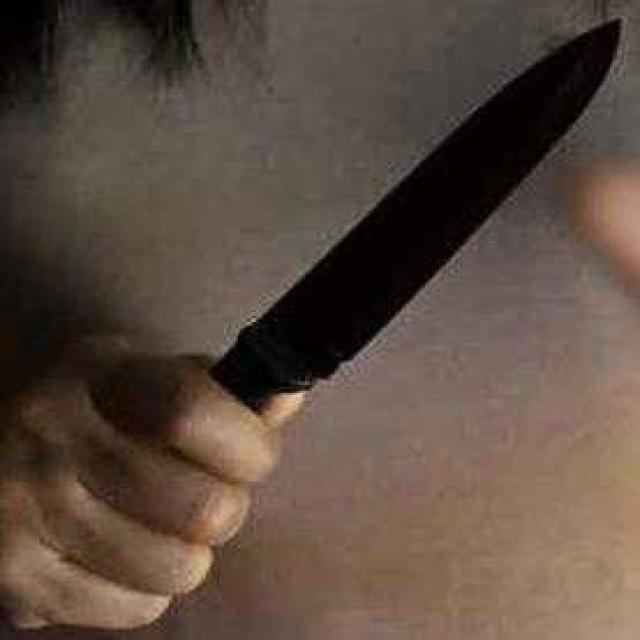Knife: (75, 0, 640, 518)
